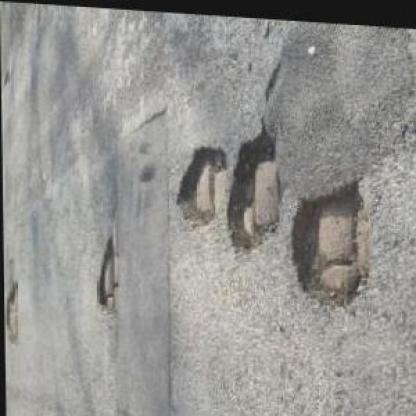pothole: (287, 169, 370, 304), (224, 119, 282, 251), (172, 138, 225, 224), (91, 229, 118, 313)
